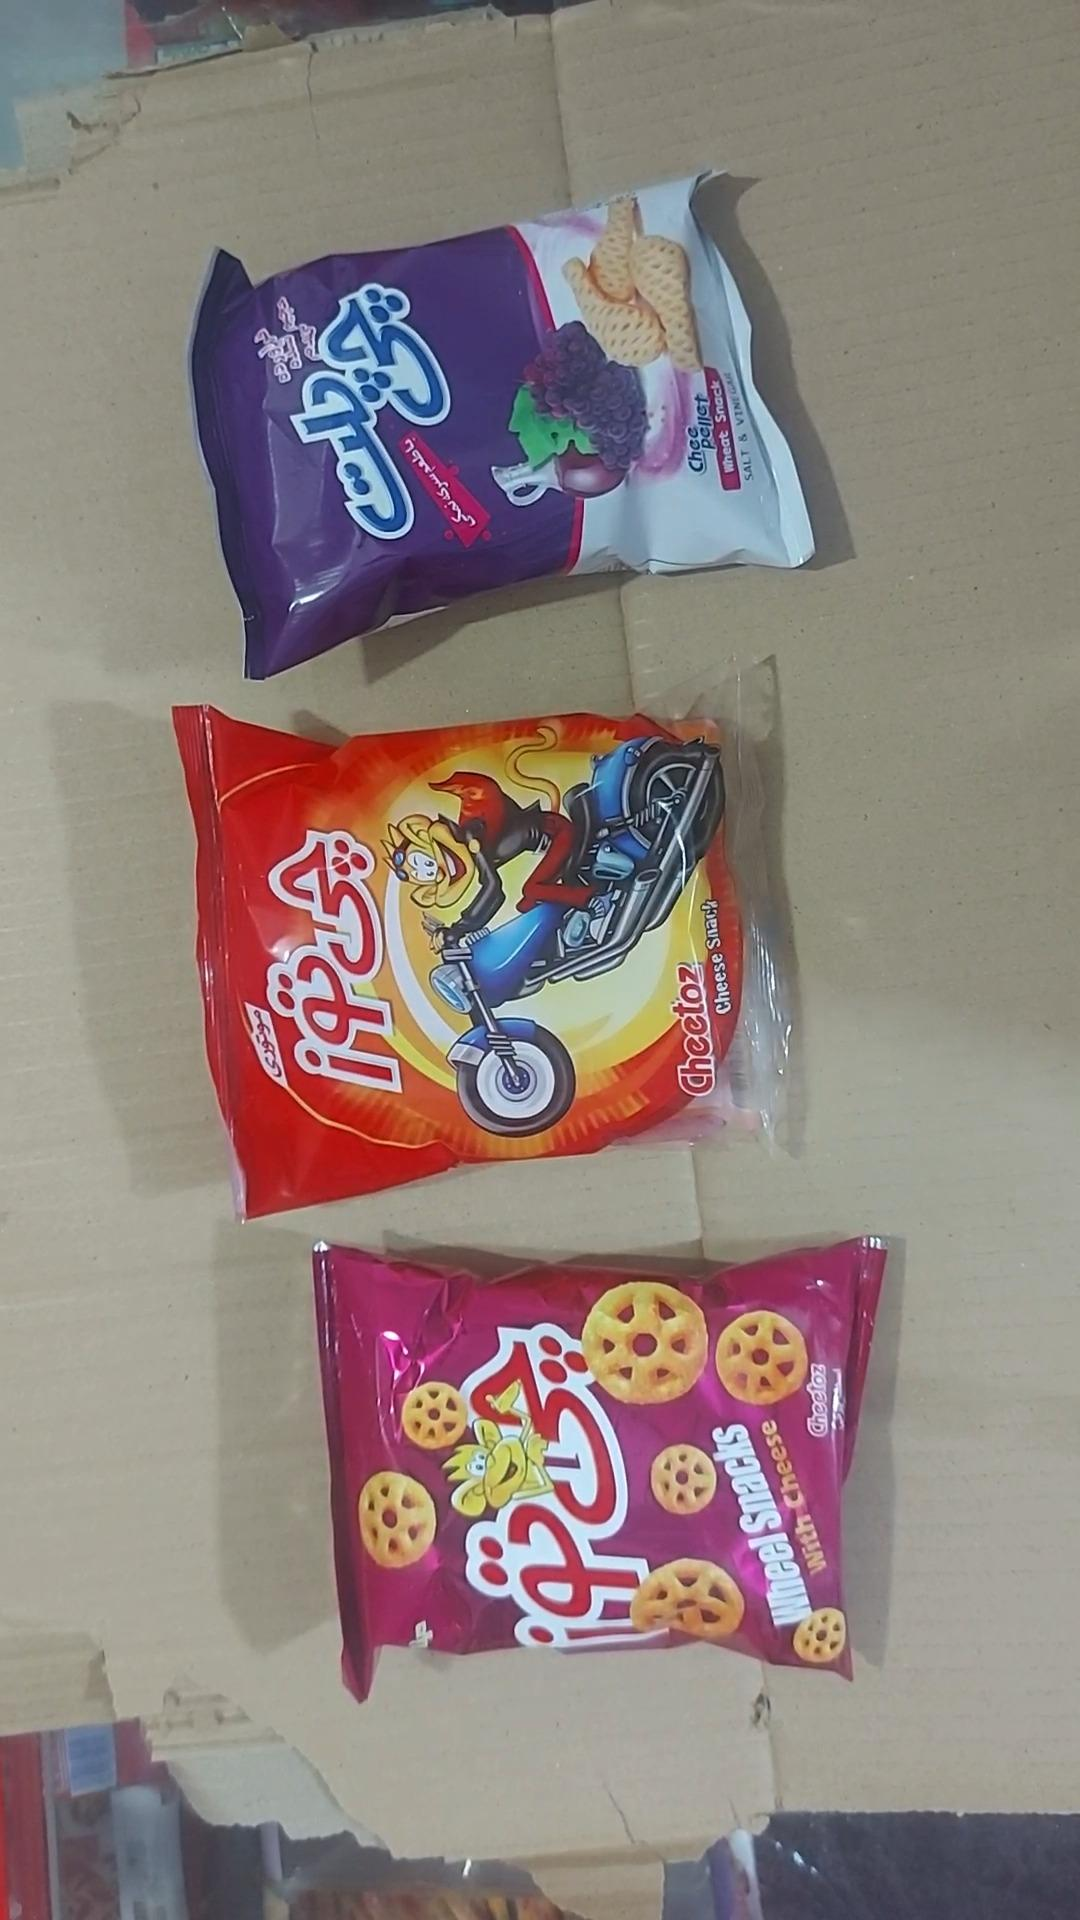Chee pellet vinegar: (189, 170, 818, 684)
Cheetoz snack 30g: (170, 657, 806, 1224)
Cheetoz wheelsnack: (311, 1238, 887, 1705)
